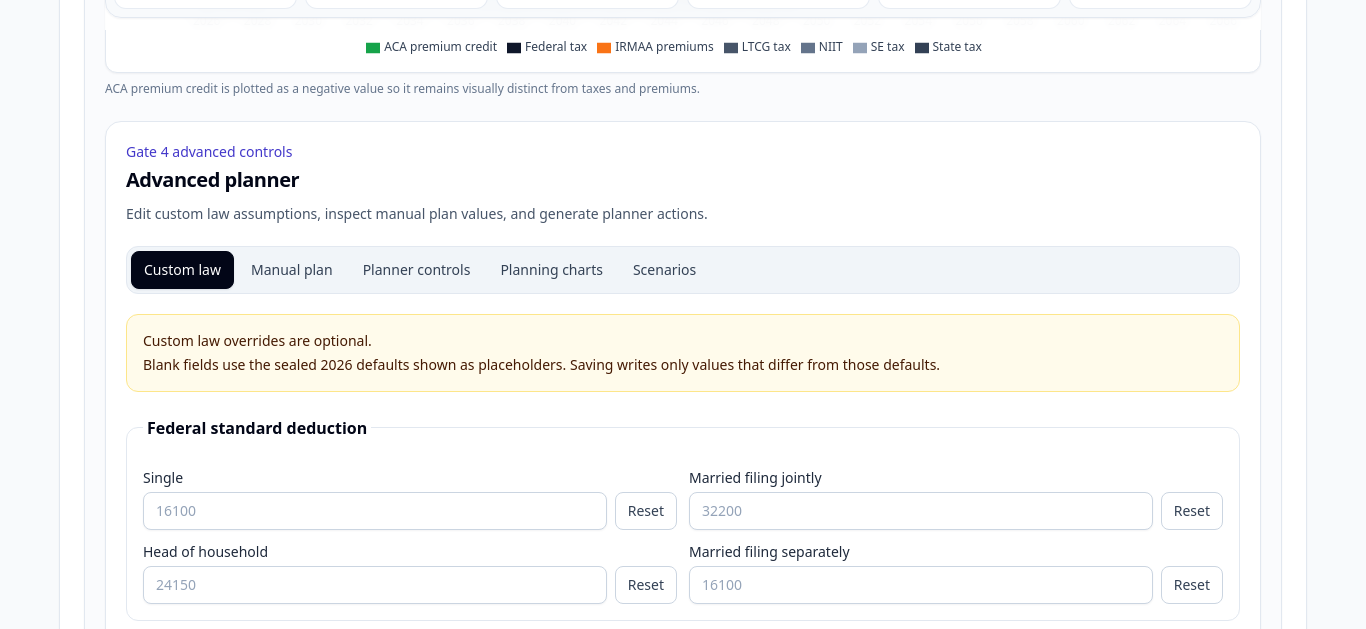
Test: App › launches compare from the verdict advanced disclosure scenario manager
(page scrolled)
Click the tab "Scenarios". click: (665, 270)
box: x1=620 y1=251 x2=709 y2=289
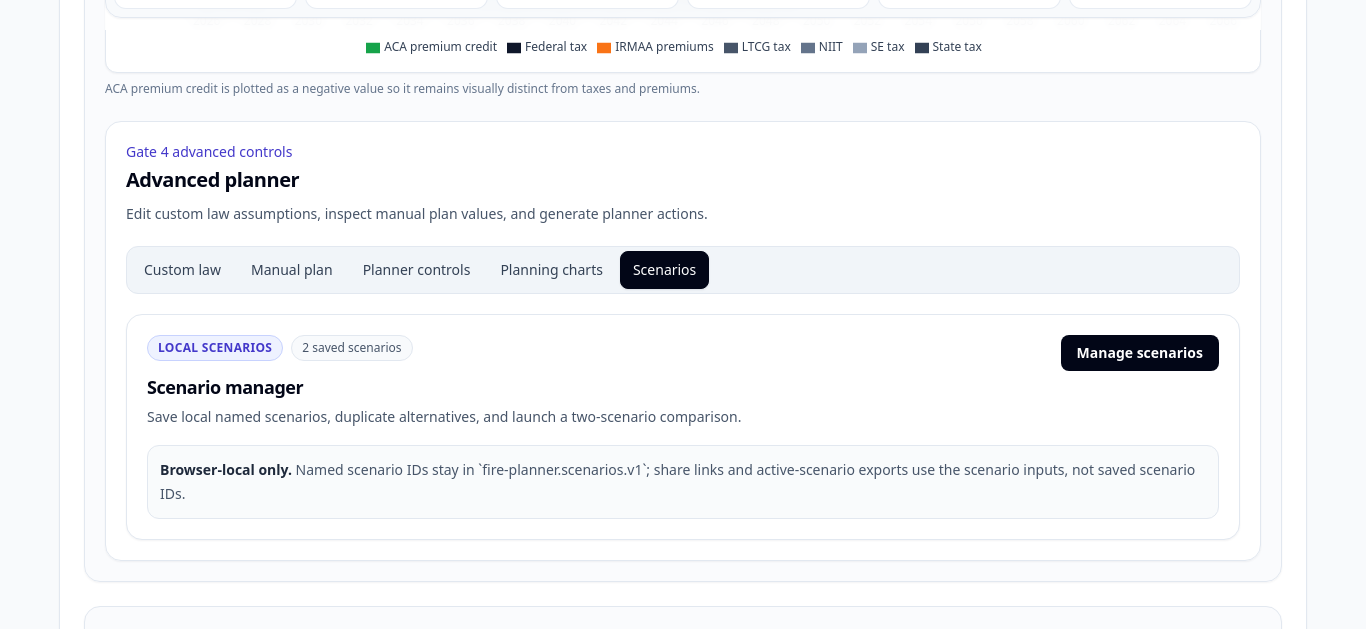
Click the button "Manage scenarios". click: (1140, 353)
box: x1=1061 y1=335 x2=1219 y2=371
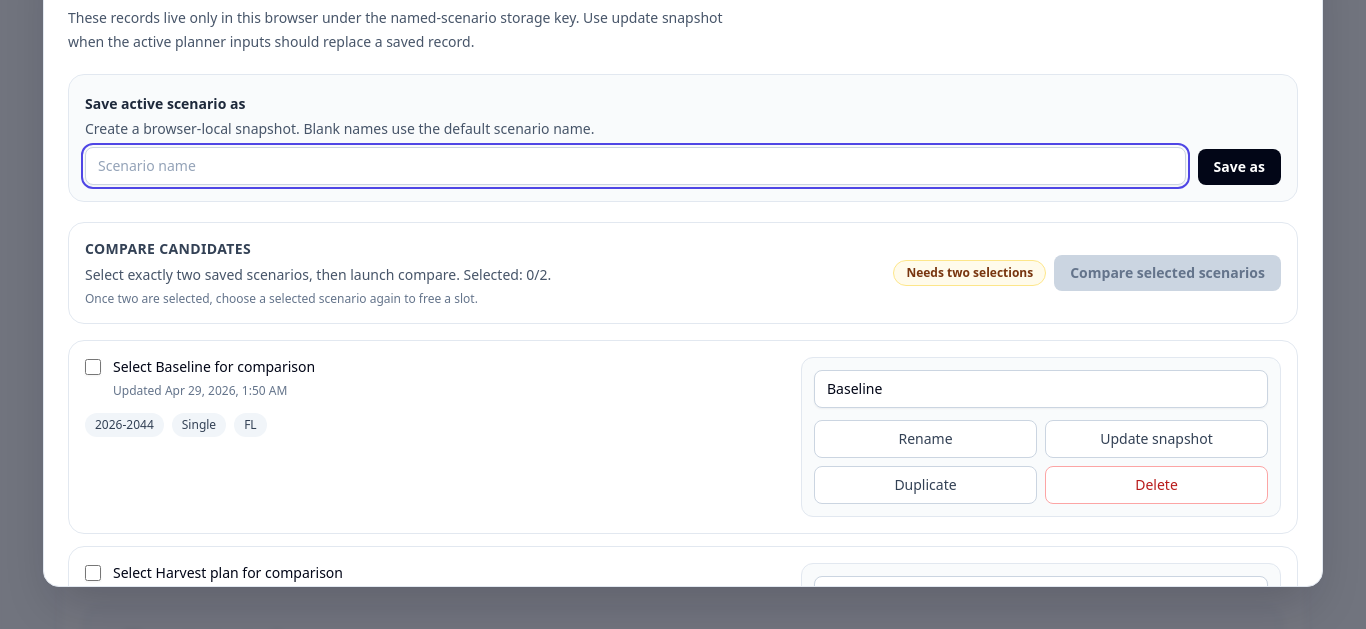
Click the checkbox labelled "Select Baseline for comparison". click: (93, 367)
box: x1=85 y1=359 x2=101 y2=375
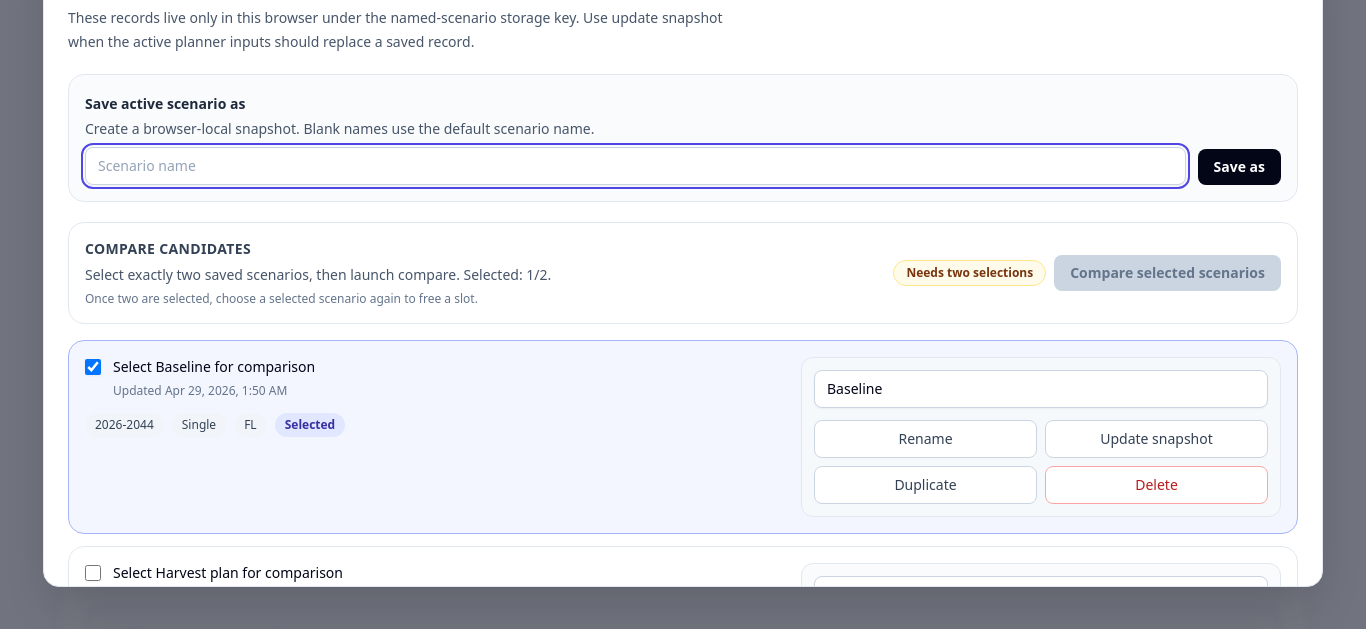
Click the checkbox labelled "Select Harvest plan for comparison". click: (93, 573)
box: x1=85 y1=565 x2=101 y2=581
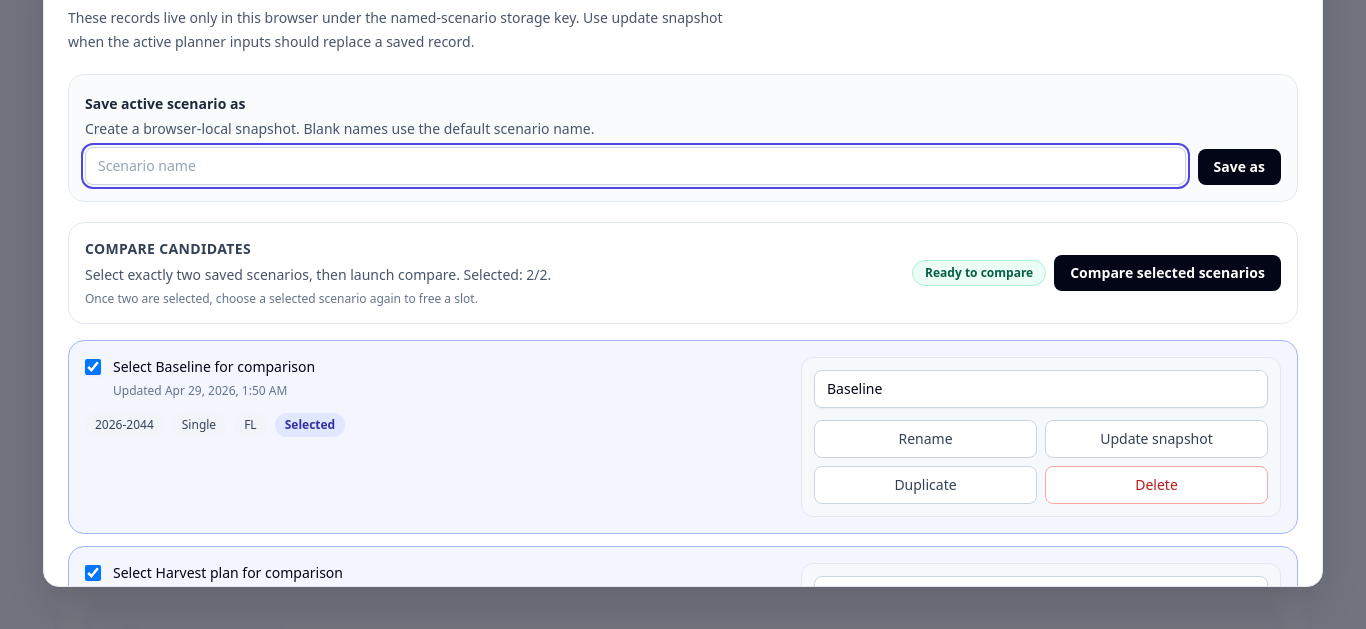
Click the button "Compare selected scenarios". click: (1168, 273)
box: x1=1054 y1=255 x2=1281 y2=291
(page scrolled)
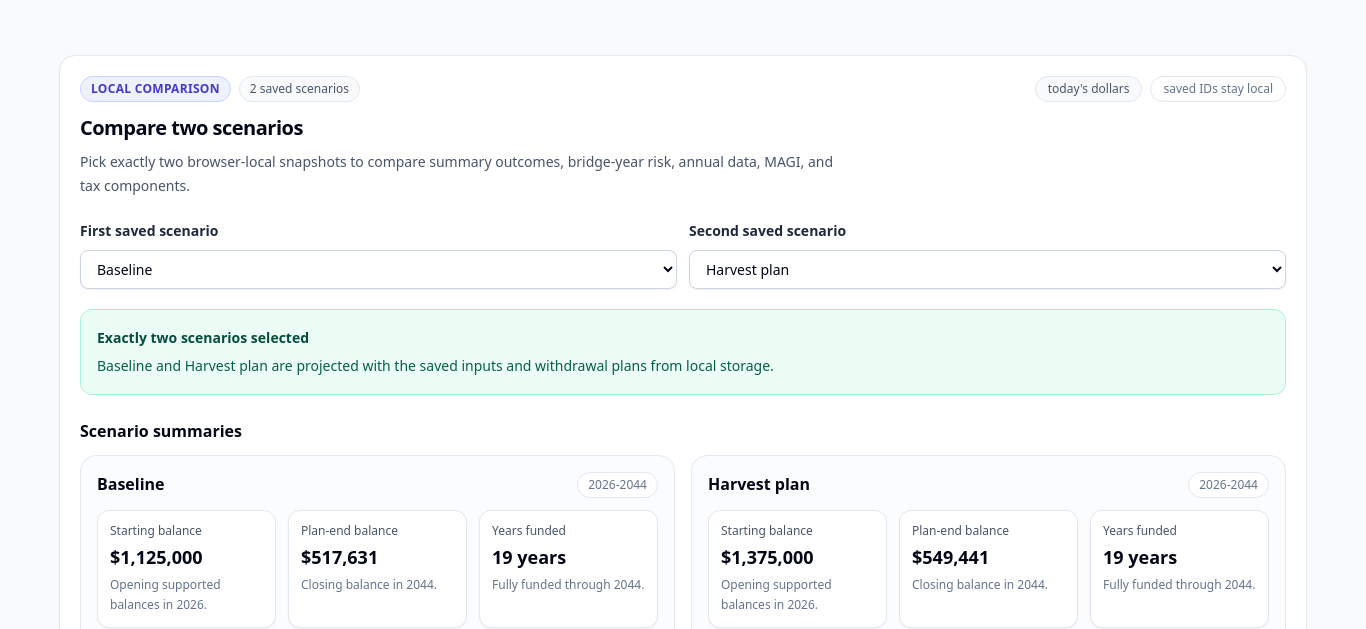
Result: the heading "Compare two scenarios" is shown at x1=80 y1=114 x2=303 y2=141
